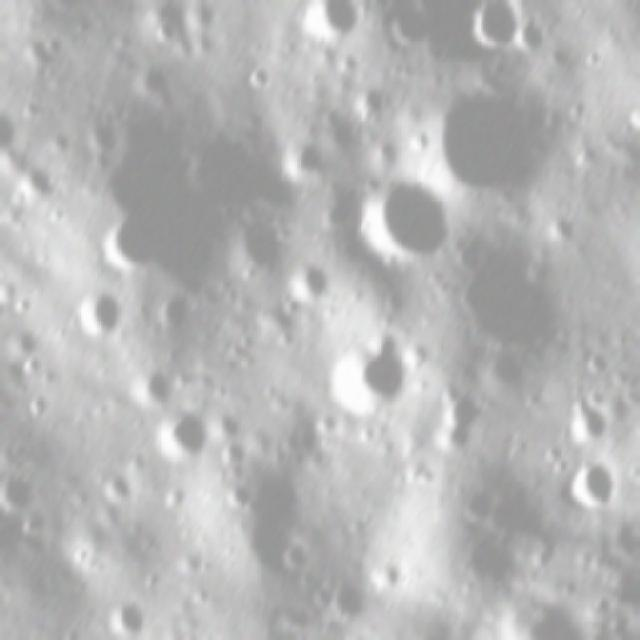crater: (87, 134, 291, 291), (415, 82, 571, 202), (432, 239, 566, 363), (350, 173, 467, 272), (320, 334, 414, 420), (151, 404, 218, 471), (96, 213, 162, 278), (71, 286, 138, 348), (563, 457, 620, 521), (426, 383, 477, 448), (467, 1, 527, 56), (292, 0, 359, 48), (382, 0, 436, 58), (566, 391, 620, 446), (313, 186, 370, 234), (123, 50, 172, 105), (127, 357, 178, 408), (277, 132, 328, 182), (9, 162, 62, 210), (316, 98, 359, 157), (74, 114, 124, 163), (0, 467, 45, 521), (98, 597, 153, 638), (282, 256, 335, 295), (333, 577, 376, 623), (273, 532, 313, 580), (156, 284, 199, 327), (99, 470, 143, 512), (513, 12, 550, 61), (1, 106, 28, 159), (5, 323, 46, 357), (355, 82, 393, 118), (227, 475, 261, 513), (214, 437, 254, 469), (581, 338, 613, 373), (39, 0, 96, 18), (243, 60, 275, 92), (18, 346, 50, 377), (0, 276, 18, 331), (580, 2, 640, 13), (624, 97, 640, 134), (366, 0, 392, 14)
